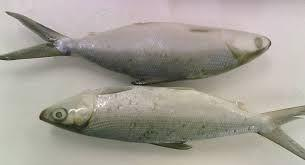Bangus: (0, 10, 281, 85), (38, 82, 305, 160)
